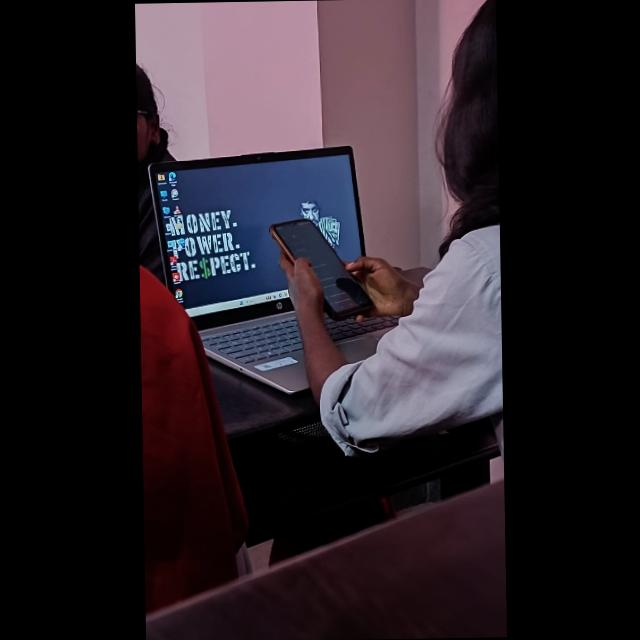laptop: (158, 141, 402, 384)
